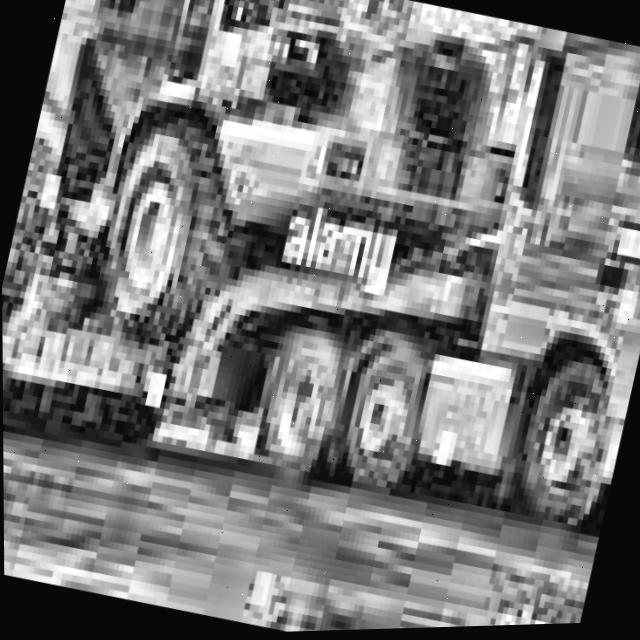dump_truck: (0, 0, 529, 410), (370, 15, 640, 565)
